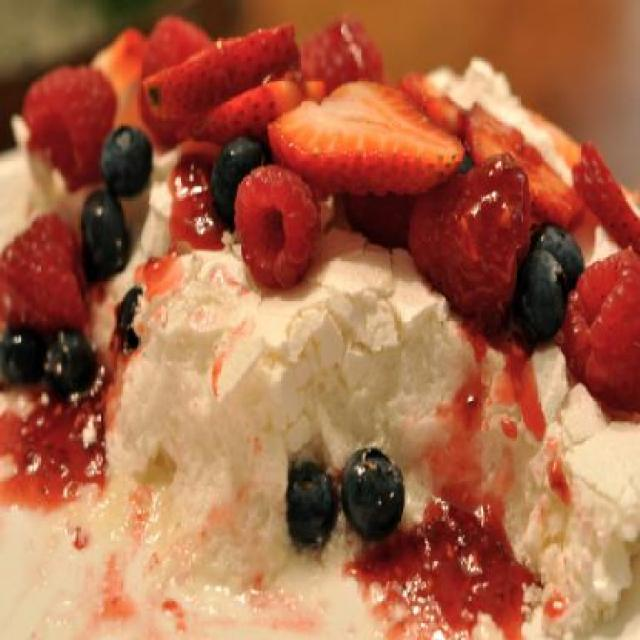Strawberry: (266, 70, 462, 204), (138, 12, 296, 117), (457, 97, 580, 225), (186, 66, 326, 143), (563, 144, 640, 246), (398, 68, 466, 141)
